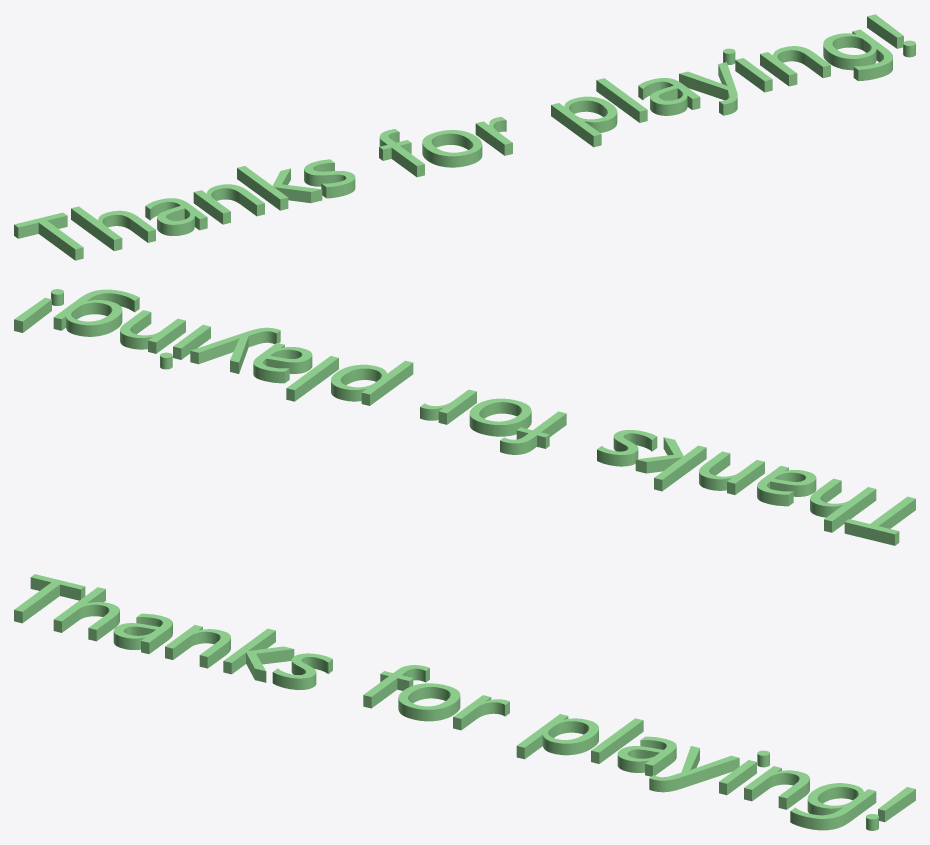
File: Thanks.obj
The picture shows the model from 3 angles, top to bottom: view 1: azimuth 30°, elevation 25°; view 2: azimuth 150°, elevation 25°; view 3: azimuth 330°, elevation 25°; orthographic projection. The views are drawn at different scales.
Parts seen in each view (by area): view 1: Thanks; view 2: Thanks; view 3: Thanks.
Boxes of the visible parts, left/top/right/bottom form: Thanks: left=14, top=14, right=915, bottom=260; Thanks: left=14, top=289, right=915, bottom=545; Thanks: left=14, top=574, right=915, bottom=830.
Bounding box in the file's own units: 0.6414 × 0.008 × 0.0742.
